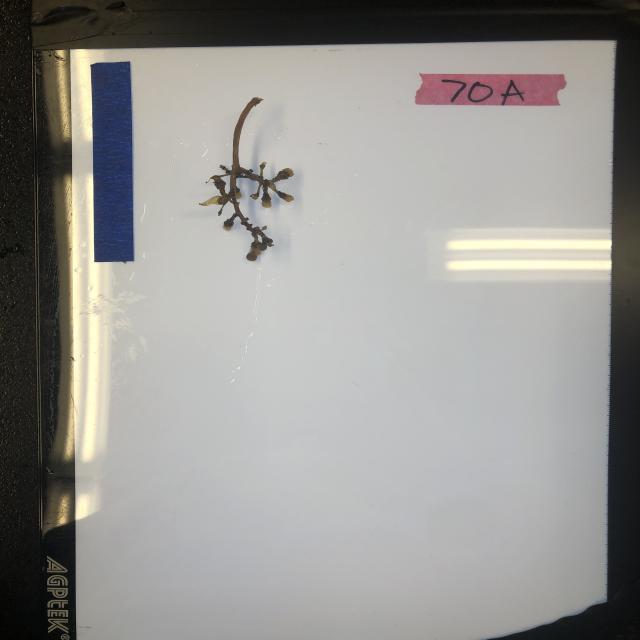index: (415, 72, 568, 106)
measure_label: (90, 61, 136, 263)
rachis_cluster: (196, 96, 300, 260)
